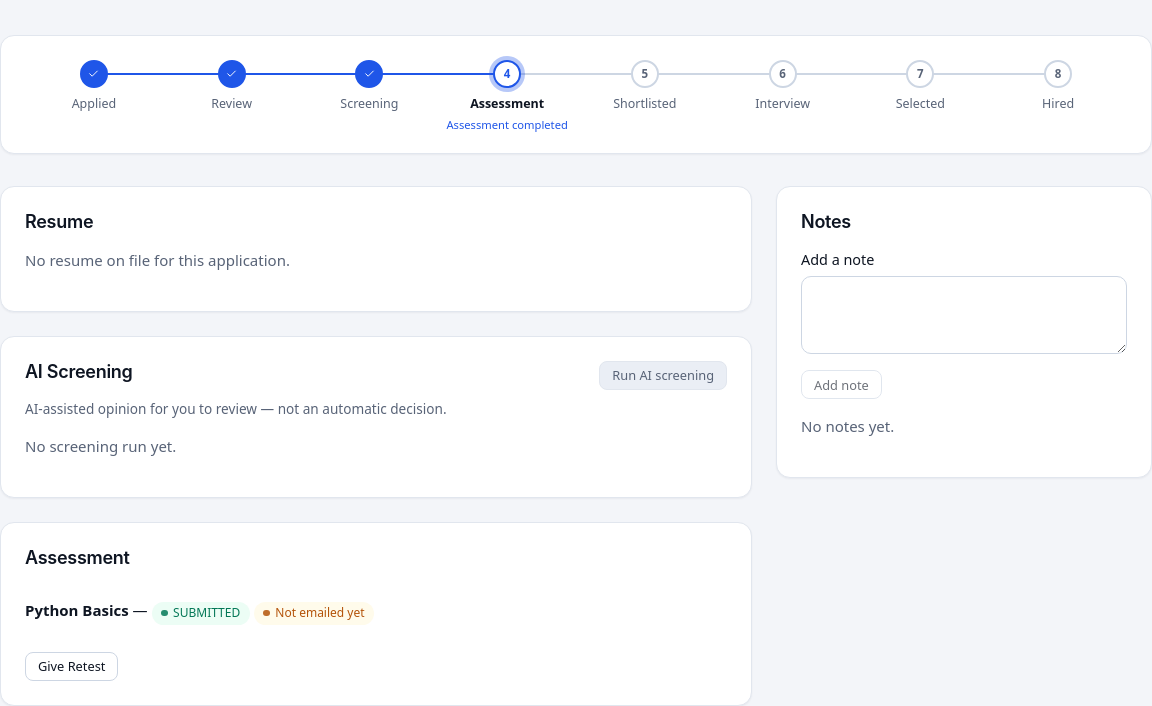
Test: ApplicationDetailPage – Send Retest › still closes without sending when the recruiter cancels
The image size is (1152, 706).
(page scrolled)
Click the button "Give Retest" at (72, 666), box [25,652,118,681]
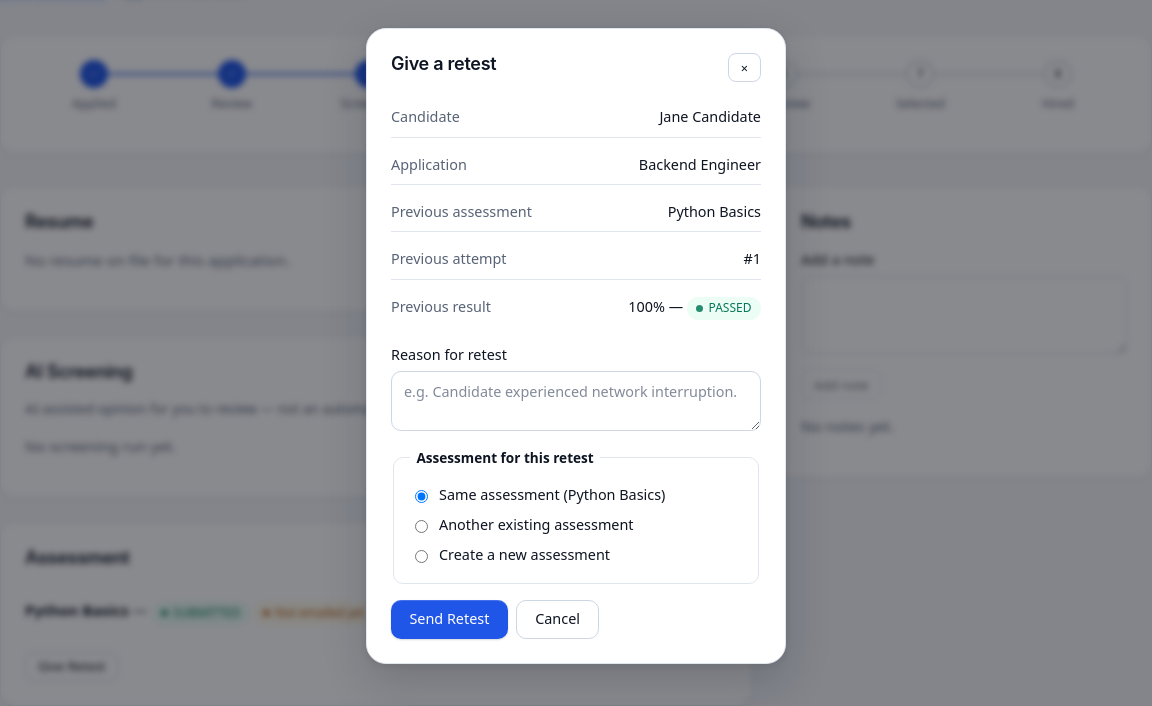
expect the dialog is shown: met, box [366,28,786,664]
Type "Network interruption" into the text box labelled "Reason for retest" at (576, 401), box [391,371,761,430]
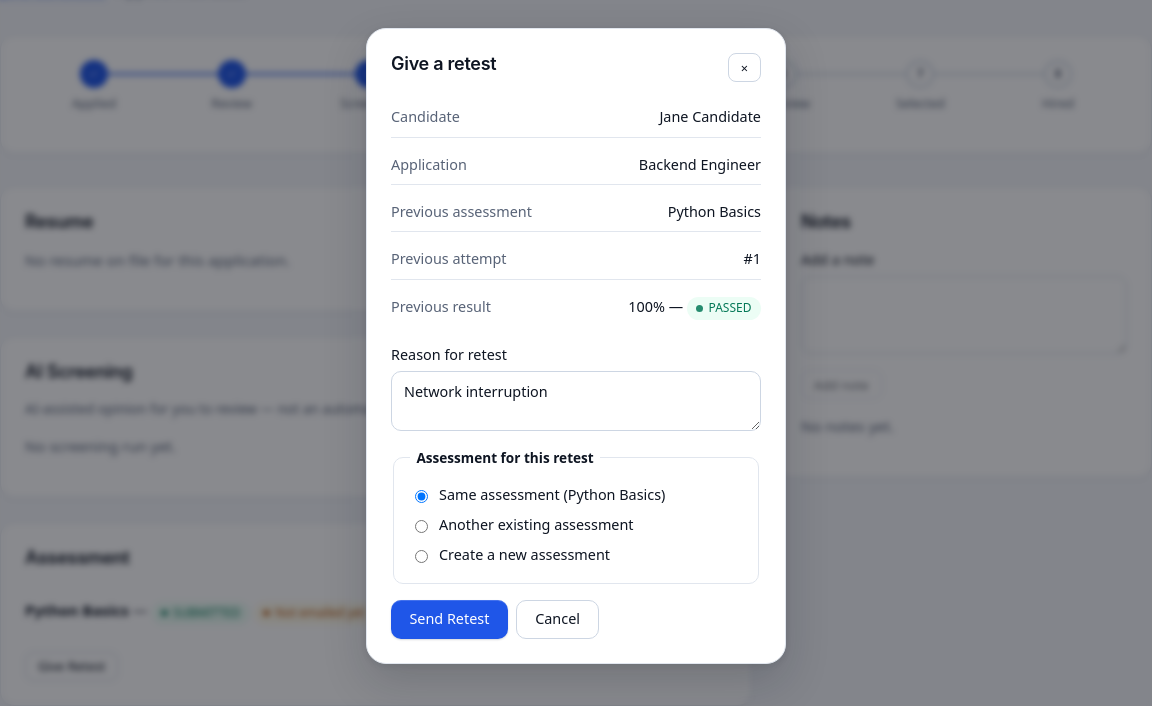
Click the button "Cancel" at (558, 619), box [516,600,599,639]
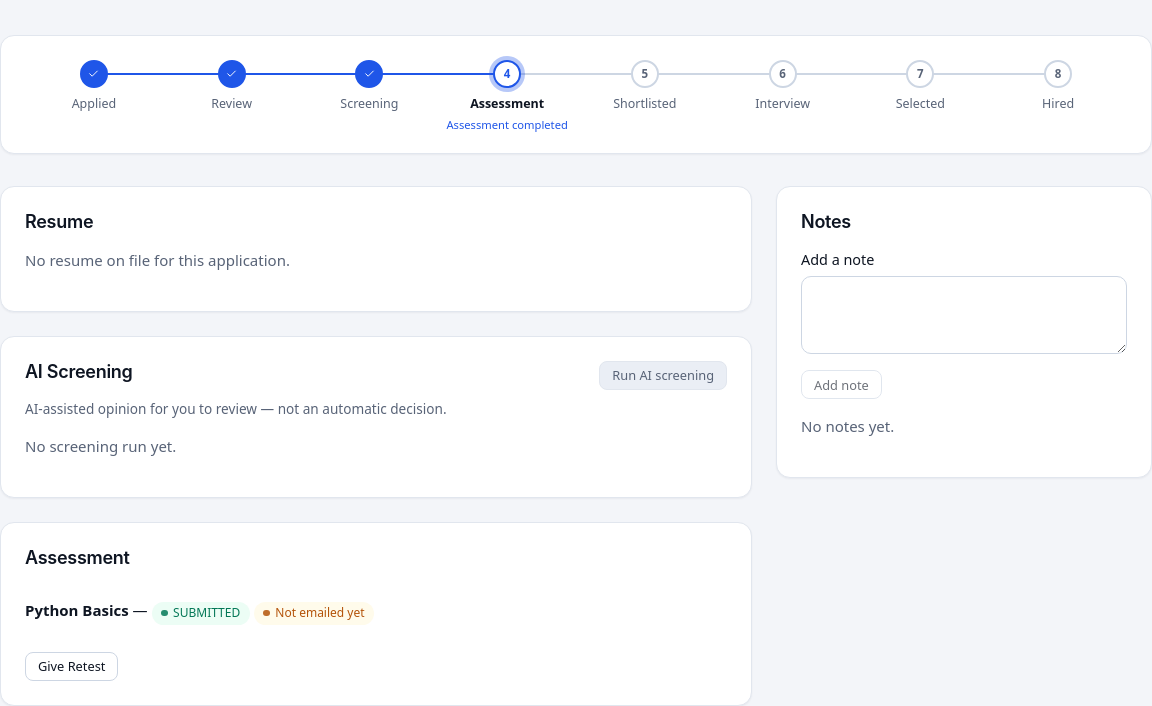
expect the dialog is gone: met
